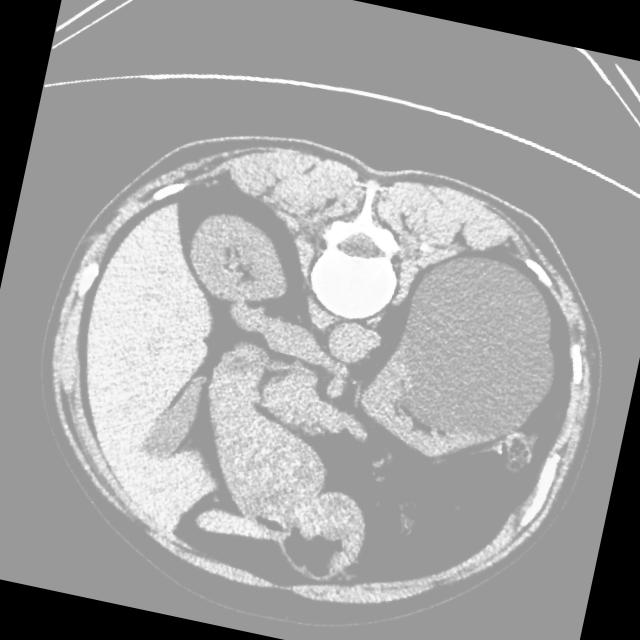cysts: (7, 99, 630, 640)
